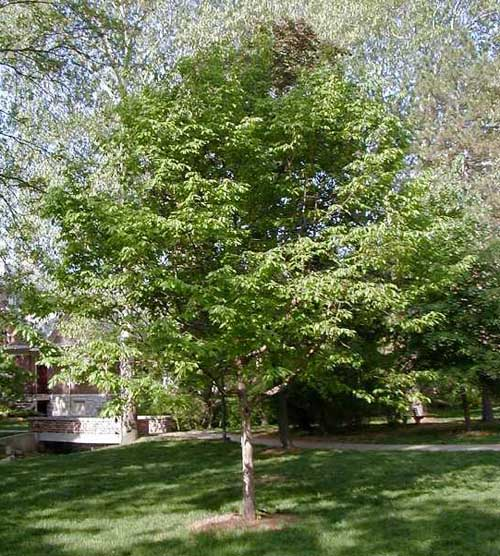tree: (16, 15, 489, 524)
